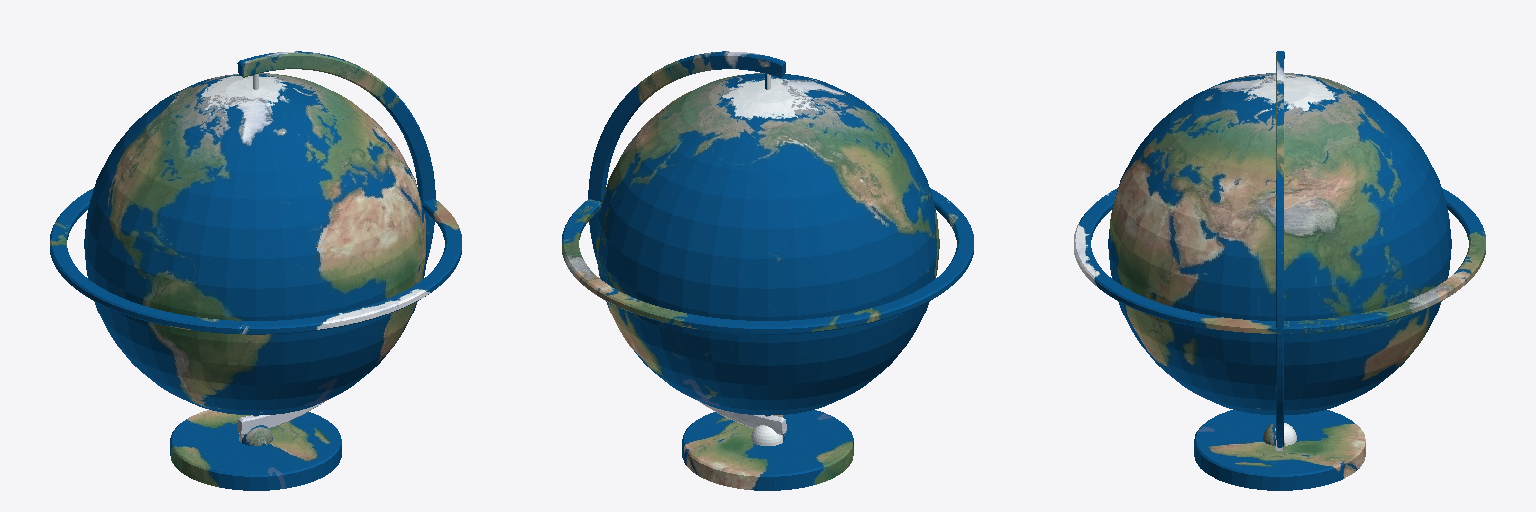
3 views of the same model, side by side, from view 1: azimuth 30°, elevation 25°; view 2: azimuth 150°, elevation 25°; view 3: azimuth 270°, elevation 25° (orthographic).
Parts seen in each view (by area): view 1: Globe; view 2: Globe; view 3: Globe.
Boxes of the visible parts, x1,y1,x2,y2 form: Globe: [50, 51, 461, 490]; Globe: [562, 51, 973, 490]; Globe: [1074, 51, 1485, 490].
Size of the model in its own units: 23.76 by 25.25 by 23.76.
Materials: 1 (1 with a texture image).